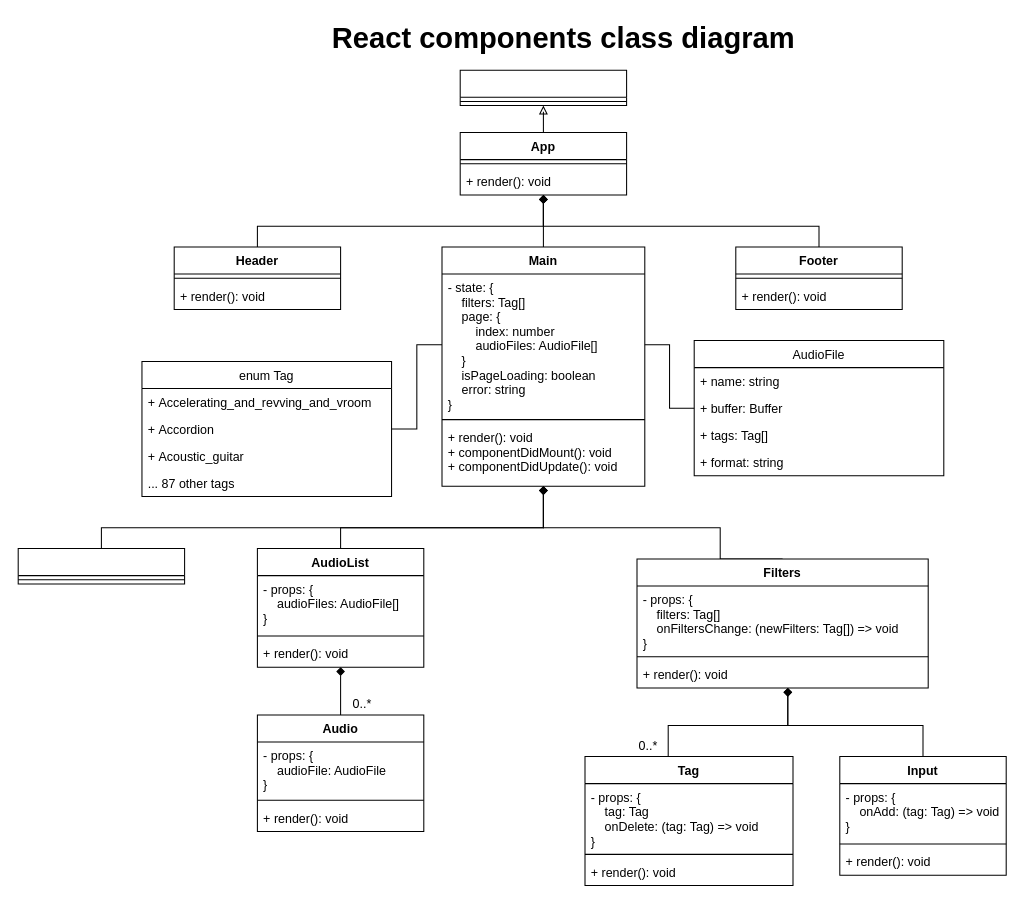
Some shapes in this 1024 by 906 pixel diagram are drawn without their labels. Here are the shapes that lost their labels. From the top down, the centre of each, then its label:
At (543,87): "React.Component".
At (101,566): "Loader".
